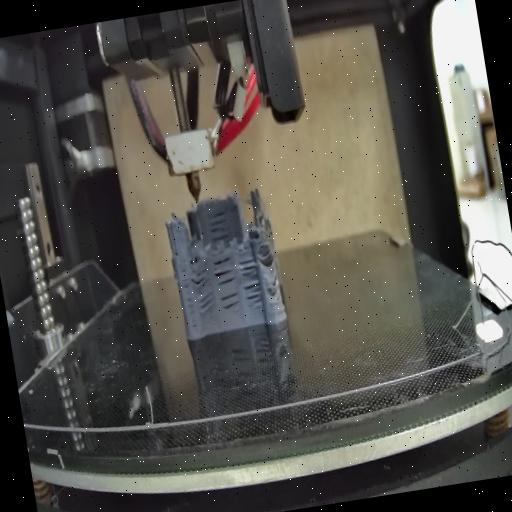cracks: (212, 254, 242, 310), (236, 253, 263, 306), (181, 268, 200, 330), (204, 202, 232, 244), (187, 260, 210, 286), (198, 292, 218, 316), (260, 242, 275, 268), (170, 240, 185, 262), (270, 275, 282, 295)
